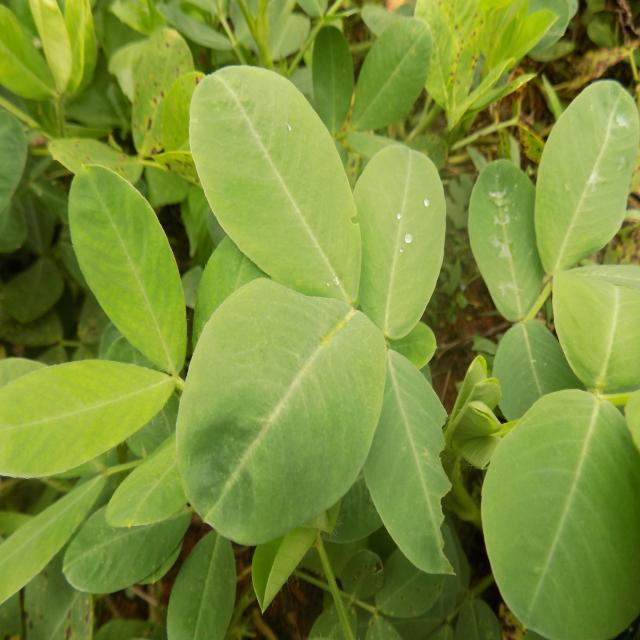Ground nut_healthy: (179, 274, 386, 535), (183, 66, 359, 310), (481, 393, 640, 640), (70, 154, 179, 370), (533, 78, 633, 282), (351, 140, 444, 346), (0, 353, 171, 458), (65, 492, 190, 595), (354, 15, 424, 135), (308, 25, 355, 141)
Ground nut_tikka leaf spot: (124, 27, 193, 142)
